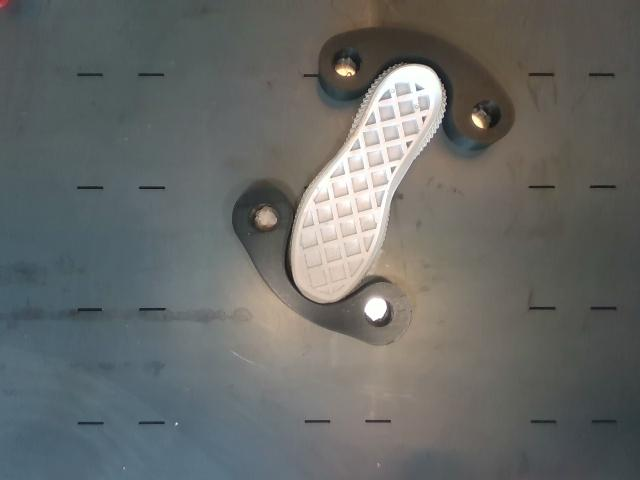shoes: (292, 66, 443, 303)
